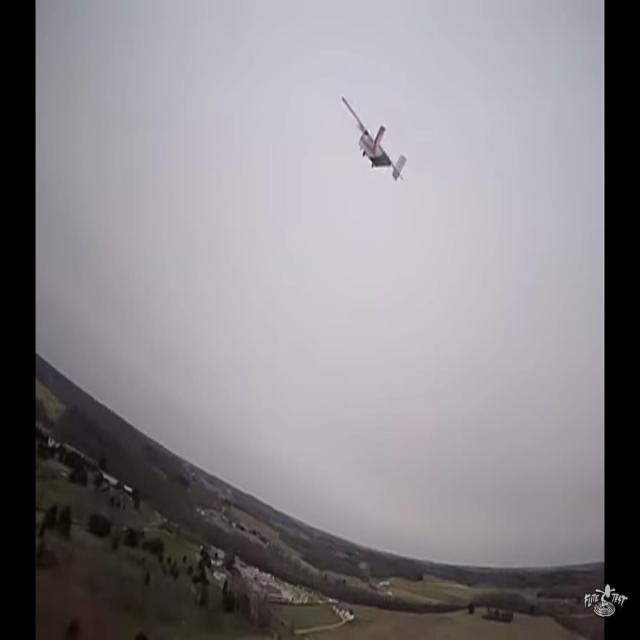iha: (373, 120, 375, 147)
